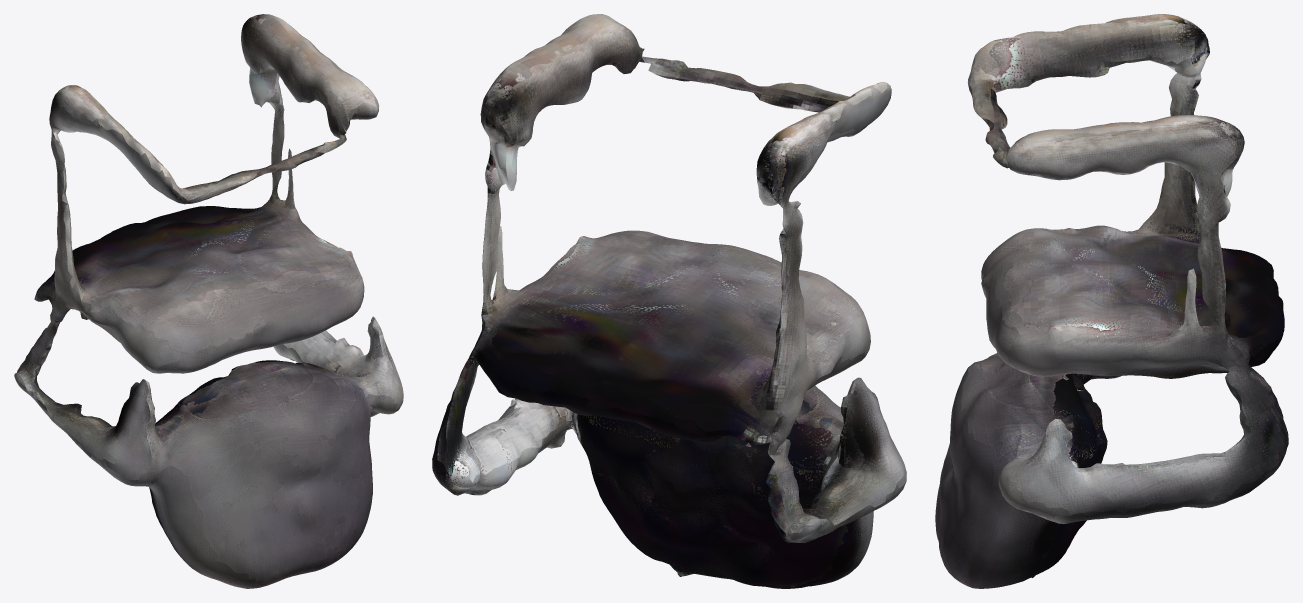
Rendered from 5_chair.glb.
The picture shows the model from 3 angles, left to right: view 1: azimuth 30°, elevation 25°; view 2: azimuth 150°, elevation 25°; view 3: azimuth 270°, elevation 25°; orthographic projection. The views are drawn at different scales.
Parts seen in each view (by area): view 1: 5_chair.obj; view 2: 5_chair.obj; view 3: 5_chair.obj.
Part boxes in pixels (x1,y1,x2,y2): 5_chair.obj: (14, 14, 403, 588); 5_chair.obj: (432, 14, 906, 588); 5_chair.obj: (935, 14, 1288, 588).
Bounding box in the file's own units: 0.7841 × 1.14 × 0.7261.
Materials: 1 (1 with a texture image).
